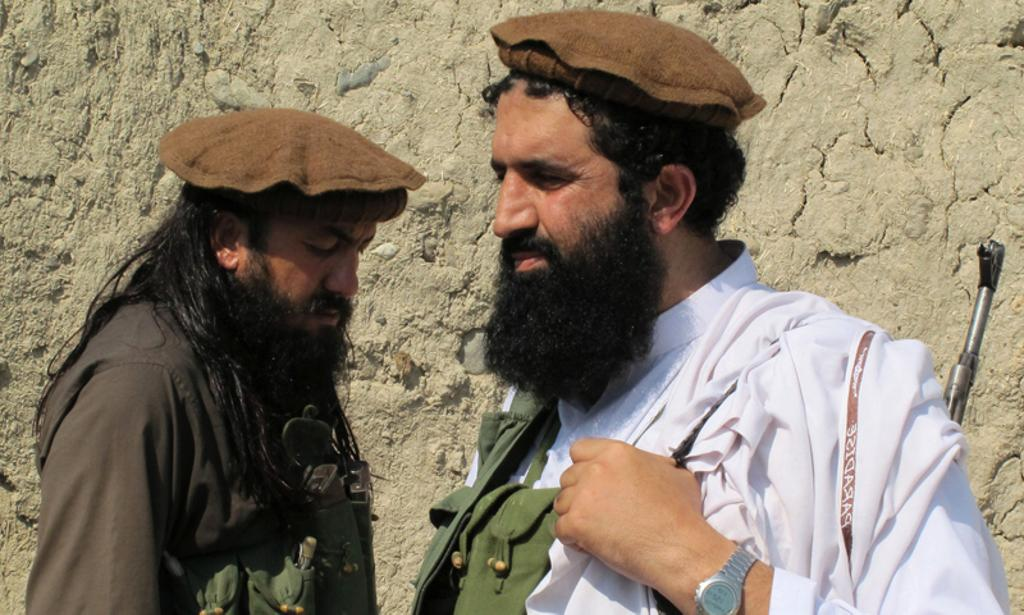face: (496, 92, 642, 334), (250, 176, 374, 344)
